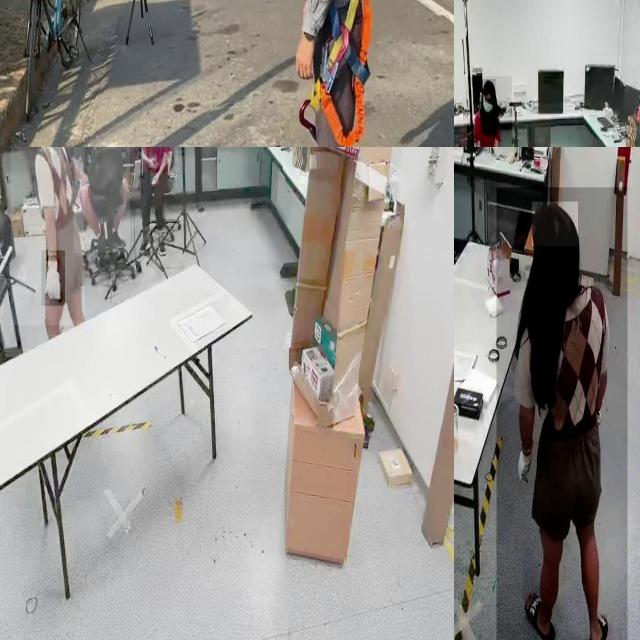Harness: (313, 0, 372, 147)
face_mask: (482, 98, 494, 120)
hand_glove: (41, 250, 66, 306), (516, 438, 538, 496)
hand_noglove: (148, 155, 158, 169), (150, 172, 160, 185)
head_nohelmet: (532, 202, 578, 246), (482, 79, 496, 95)
person: (496, 187, 627, 640), (11, 147, 85, 326), (73, 147, 130, 253), (139, 147, 175, 247), (467, 76, 512, 147)
shoes: (105, 221, 127, 254)
